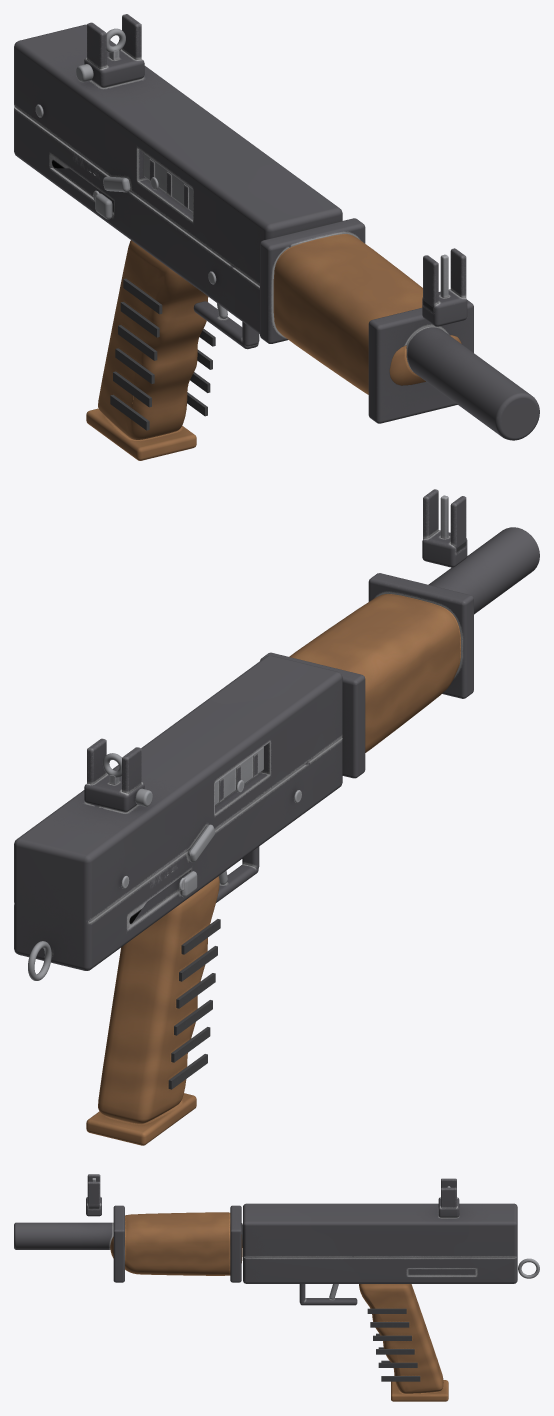
Rendered from sawedoff.fbx.
The picture shows the model from 3 angles, top to bottom: view 1: azimuth 30°, elevation 25°; view 2: azimuth 150°, elevation 25°; view 3: azimuth 270°, elevation 25°; orthographic projection. The views are drawn at different scales.
Visible parts, largest first — view 1: sawedoff; view 2: sawedoff; view 3: sawedoff.
Boxes of the visible parts, x1,y1,x2,y2 form: sawedoff: (14, 14, 539, 460); sawedoff: (14, 489, 539, 1145); sawedoff: (14, 1174, 539, 1401).
Bounding box in the file's own units: 0.053 × 0.2083 × 0.4596.
